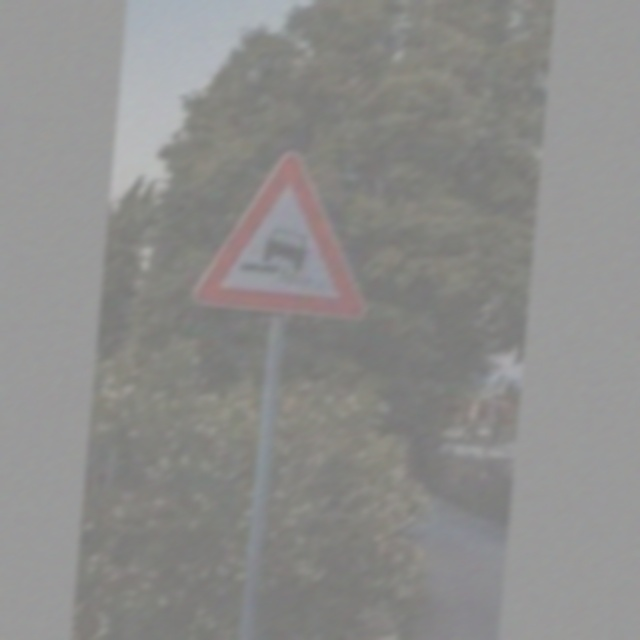Loose_Gravel: (204, 149, 372, 319)
